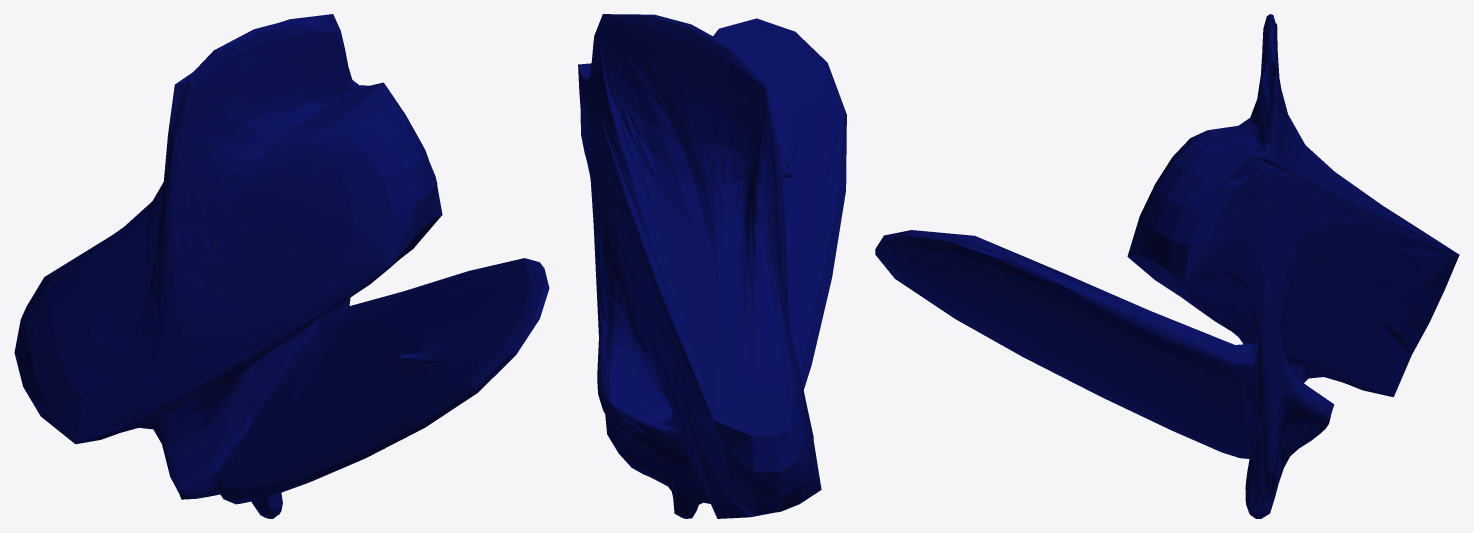
3 views of the same model, side by side, from view 1: azimuth 30°, elevation 25°; view 2: azimuth 150°, elevation 25°; view 3: azimuth 270°, elevation 25° (orthographic). The views are drawn at different scales.
Parts seen in each view (by area): view 1: 770_Cube.3100; view 2: 770_Cube.3100; view 3: 770_Cube.3100.
Boxes of the visible parts, <box> form: 770_Cube.3100: <box>14,14,549,518</box>; 770_Cube.3100: <box>578,14,846,518</box>; 770_Cube.3100: <box>875,14,1459,518</box>.
Bounding box in the file's own units: 8.55 × 12.63 × 13.57.
